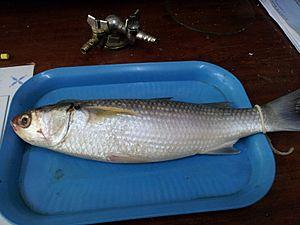Mullet: (11, 93, 300, 165)
